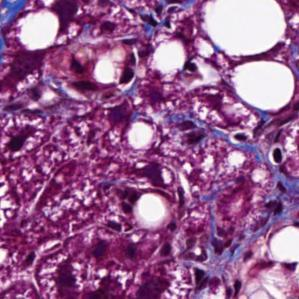inflammation: (109, 158, 173, 211), (176, 119, 252, 154), (116, 32, 150, 93)
